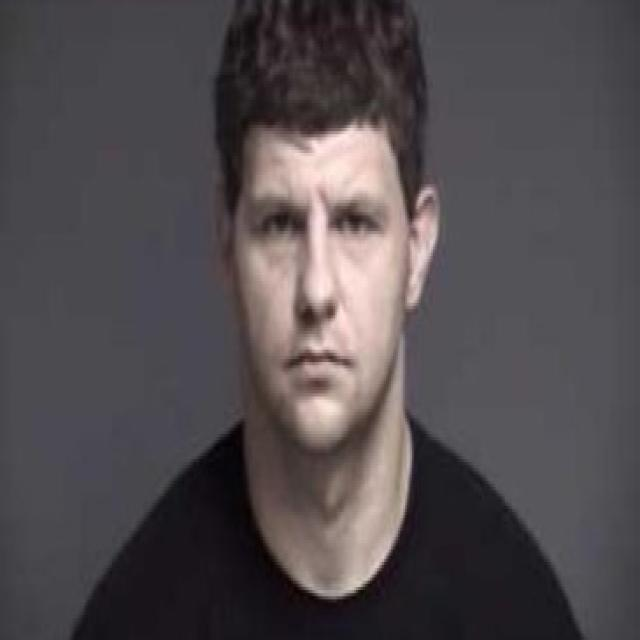mobile_phonerotation: (60, 0, 603, 637)
